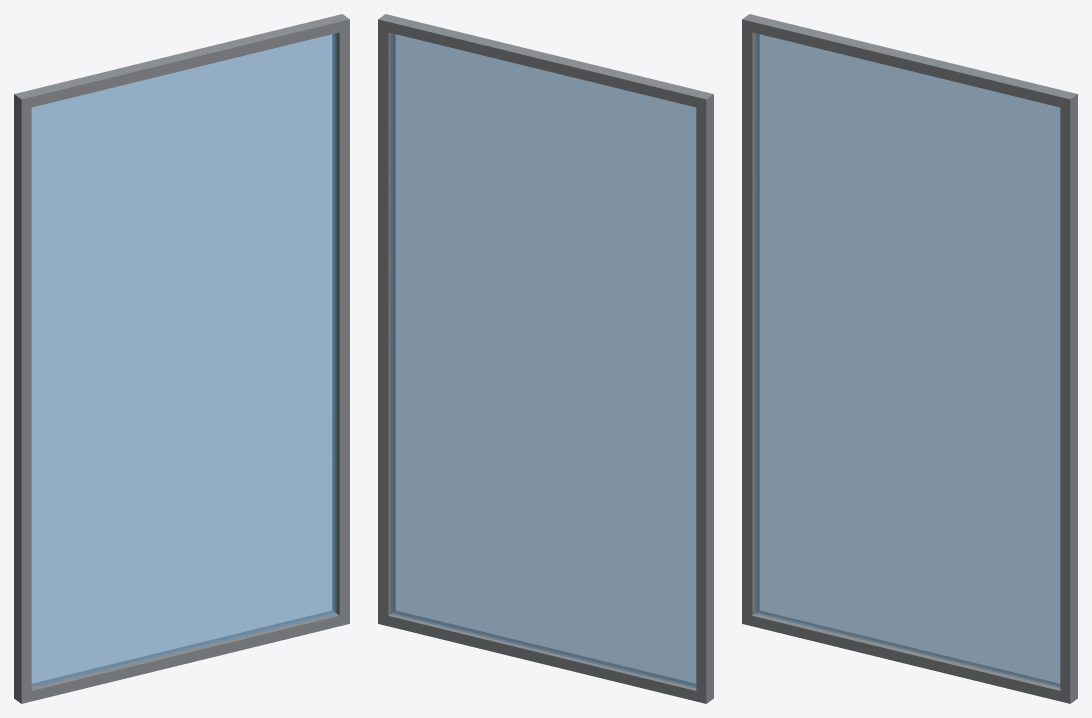
The model's file is Fridge Door.fbx.
3 views of the same model, side by side, from view 1: azimuth 30°, elevation 25°; view 2: azimuth 150°, elevation 25°; view 3: azimuth 330°, elevation 25° (orthographic).
Visible parts, largest first — view 1: Fridge Door; view 2: Fridge Door; view 3: Fridge Door.
Part boxes in pixels (x1=…): Fridge Door: x1=14, y1=14, x2=349, y2=703; Fridge Door: x1=378, y1=14, x2=713, y2=703; Fridge Door: x1=742, y1=14, x2=1077, y2=703.
Size of the model in its own units: 102 by 180 by 3.97.
